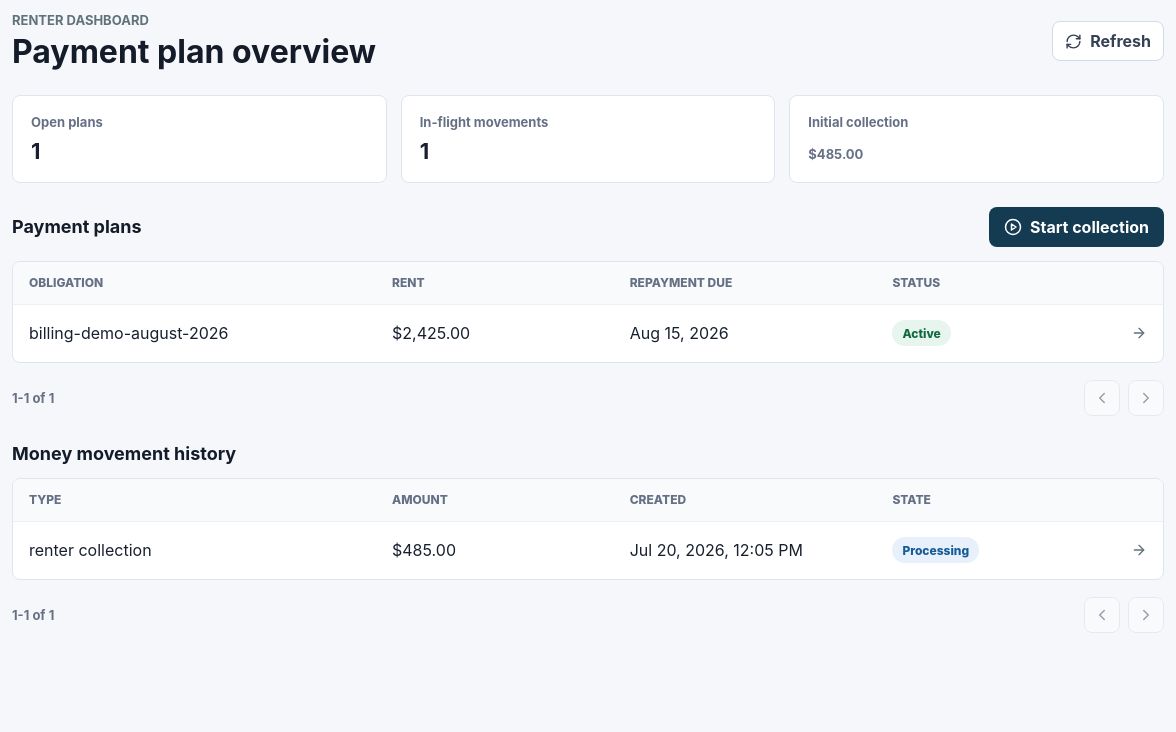
RenterDashboardPage › shows collection error feedback from the backend
Click the button "Start collection": (1076, 227) [989, 207, 1164, 247]
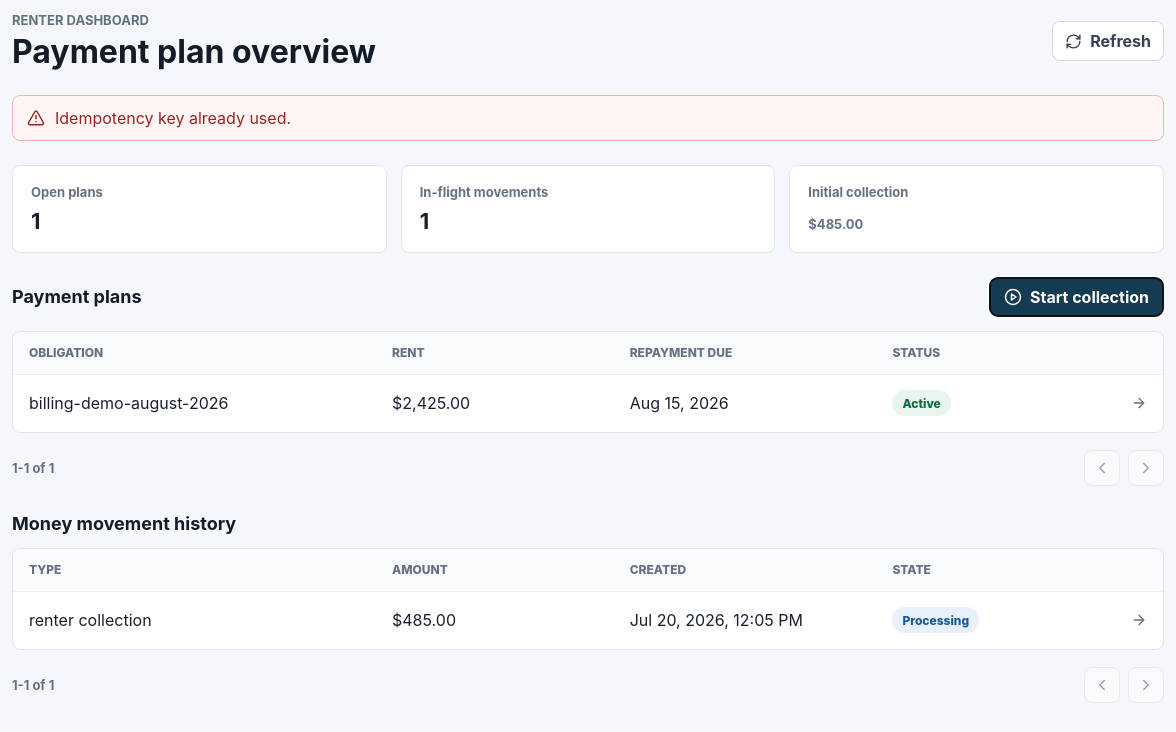
Now the text "Idempotency key already used." is shown, box [55, 108, 291, 128]
